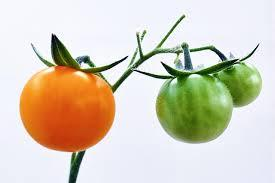Masak: (20, 52, 115, 153)
Mengkal: (151, 66, 231, 147), (212, 60, 267, 107)
